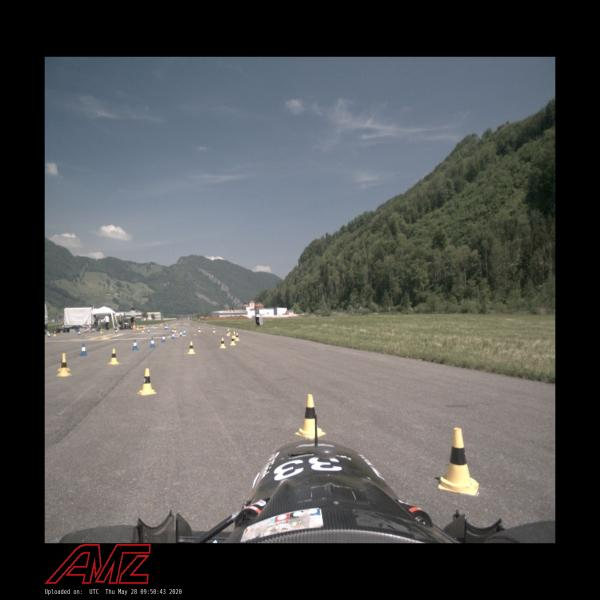blue_cone: (79, 344, 88, 357), (131, 340, 139, 350), (150, 338, 155, 348), (161, 334, 166, 342), (172, 332, 176, 339), (180, 330, 183, 337), (183, 329, 186, 335), (115, 328, 118, 334), (77, 330, 80, 336), (164, 324, 167, 330), (172, 328, 174, 334), (48, 332, 50, 338), (148, 328, 150, 333), (167, 325, 168, 330)
yellow_cone: (438, 427, 479, 496), (295, 395, 326, 438), (138, 369, 156, 396), (55, 356, 72, 377), (57, 353, 71, 372), (109, 349, 120, 365), (188, 341, 195, 354), (219, 337, 226, 349), (230, 336, 236, 345), (235, 333, 240, 341), (232, 331, 236, 339), (226, 330, 230, 336), (227, 329, 231, 334), (212, 328, 216, 333), (198, 327, 201, 333), (100, 328, 103, 334), (174, 327, 177, 332), (53, 331, 56, 336), (142, 327, 144, 333)
